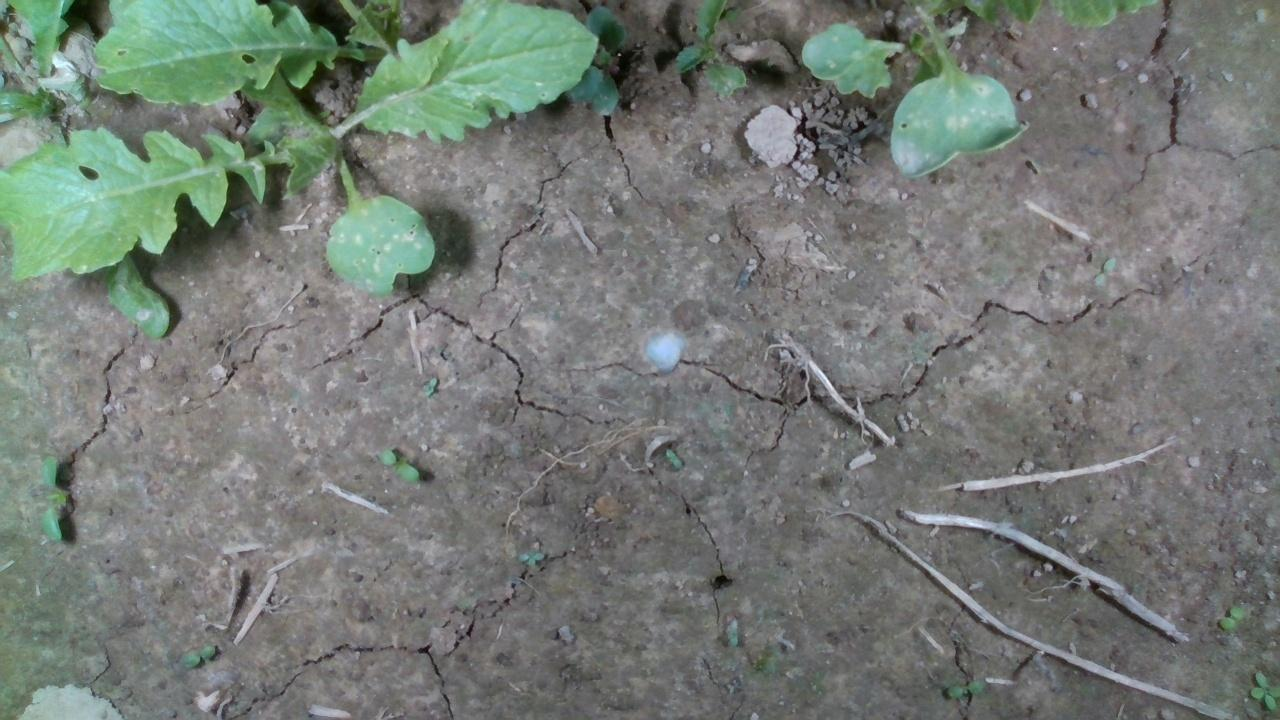weed: (377, 446, 420, 481)
